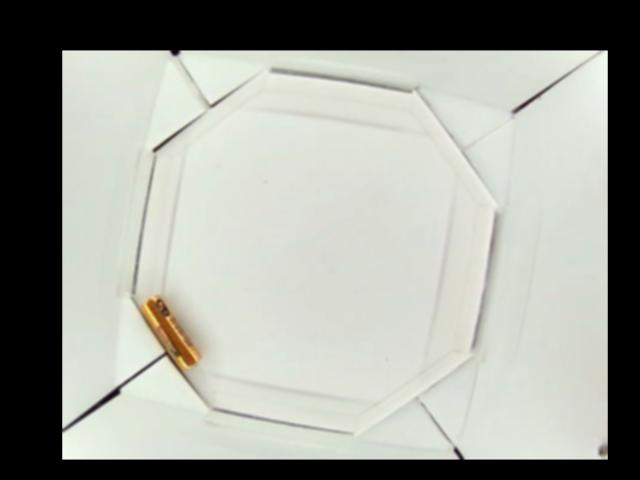Battery: (141, 295, 200, 369)
